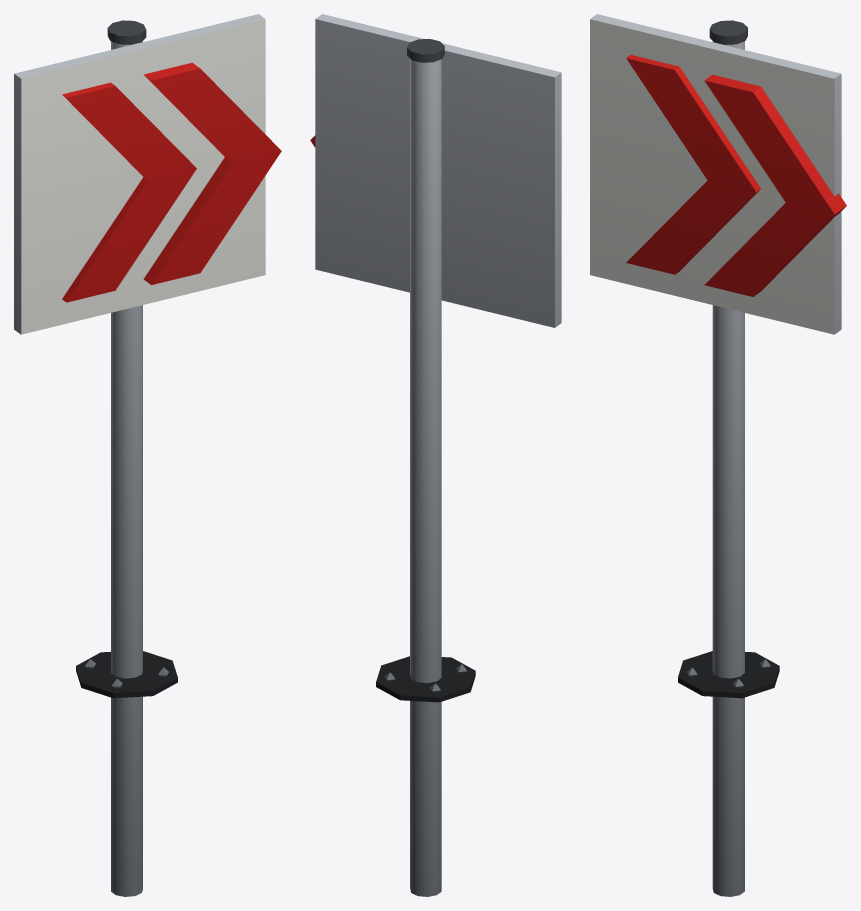
The model's file is Chevron.fbx.
The picture shows the model from 3 angles, left to right: view 1: azimuth 30°, elevation 25°; view 2: azimuth 150°, elevation 25°; view 3: azimuth 330°, elevation 25°; orthographic projection. The views are drawn at different scales.
Parts seen in each view (by area): view 1: Chevron_LOD0; view 2: Chevron_LOD0; view 3: Chevron_LOD0.
Part boxes in pixels (box(x1,y1,x2,y2)): Chevron_LOD0: box(14, 14, 281, 896); Chevron_LOD0: box(310, 14, 561, 896); Chevron_LOD0: box(590, 14, 846, 896).
Size of what is drawn, in the model's own units: 0.62 by 2.02 by 0.224.
1 material, 1 textured.
